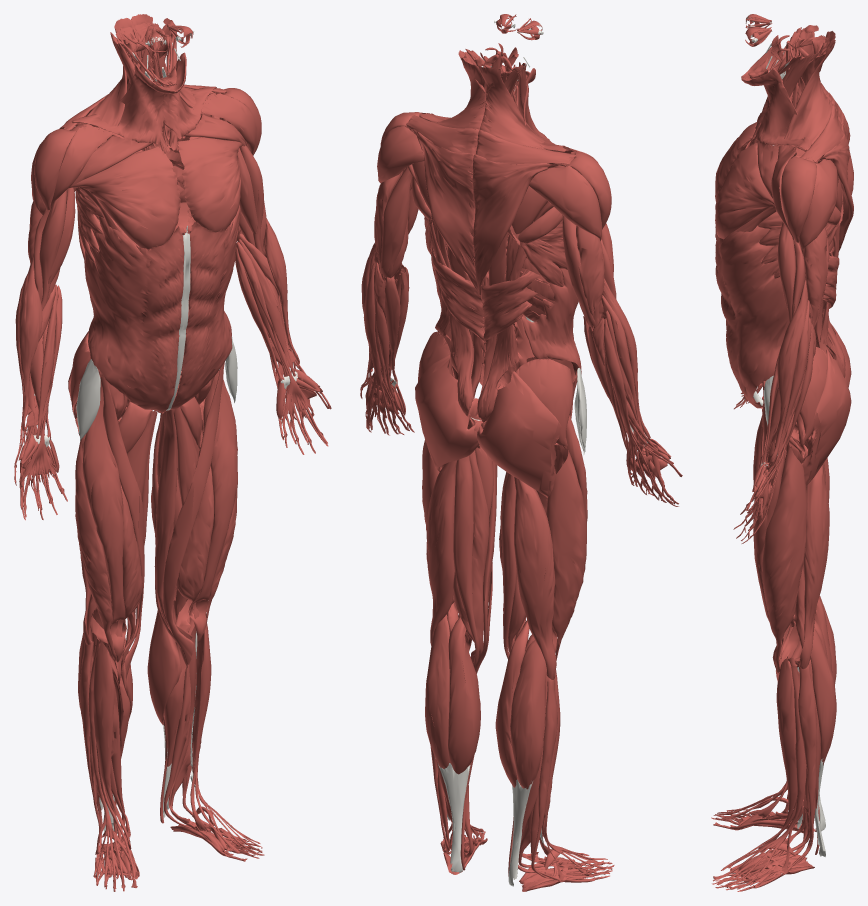
Rendered from body-muscles.glb.
The picture shows the model from 3 angles, left to right: view 1: azimuth 30°, elevation 25°; view 2: azimuth 150°, elevation 25°; view 3: azimuth 270°, elevation 25°; orthographic projection.
Visible parts, largest first — view 1: FJ1452, FJ1452M, FJ1464, FJ1433, FJ1464M, FJ1433M, FJ1434M, FJ1442, FJ1587, FJ1421M, FJ1434, FJ1439 (+42 smaller); view 2: FJ1418, FJ1395, FJ1442, FJ1520M, FJ1520, FJ1418M, FJ1394, FJ1397M, FJ1395M, FJ1452, FJ1436M, FJ1394M (+43 smaller); view 3: FJ1452M, FJ1442M, FJ1395M, FJ1464M, FJ1418M, FJ1439M, FJ1558, FJ1467M, FJ1521M, FJ1394M, FJ1487M, FJ1410M (+35 smaller).
Boxes of the visible parts, x1=… form: FJ1452: x1=84, y1=216, x2=184, y2=412; FJ1452M: x1=170, y1=204, x2=240, y2=409; FJ1464: x1=69, y1=146, x2=180, y2=248; FJ1433: x1=82, y1=381, x2=126, y2=662; FJ1464M: x1=177, y1=137, x2=242, y2=232; FJ1433M: x1=188, y1=370, x2=237, y2=642; FJ1434M: x1=163, y1=362, x2=224, y2=664; FJ1442: x1=75, y1=434, x2=116, y2=660; FJ1587: x1=72, y1=64, x2=176, y2=144; FJ1421M: x1=155, y1=409, x2=192, y2=639; FJ1434: x1=99, y1=373, x2=144, y2=679; FJ1439: x1=93, y1=641, x2=131, y2=849; FJ1418: x1=477, y1=371, x2=561, y2=497; FJ1395: x1=514, y1=476, x2=556, y2=679; FJ1442: x1=546, y1=444, x2=586, y2=660; FJ1520M: x1=415, y1=131, x2=481, y2=298; FJ1520: x1=472, y1=154, x2=558, y2=298; FJ1418M: x1=415, y1=355, x2=479, y2=471; FJ1394: x1=510, y1=640, x2=546, y2=789; FJ1397M: x1=447, y1=617, x2=480, y2=774; FJ1395M: x1=426, y1=460, x2=457, y2=645; FJ1452: x1=521, y1=268, x2=581, y2=374; FJ1436M: x1=453, y1=455, x2=479, y2=667; FJ1394M: x1=425, y1=614, x2=449, y2=768; FJ1452M: x1=715, y1=225, x2=789, y2=408; FJ1442M: x1=762, y1=441, x2=807, y2=671; FJ1395M: x1=799, y1=464, x2=829, y2=668; FJ1464M: x1=715, y1=142, x2=774, y2=239; FJ1418M: x1=802, y1=349, x2=851, y2=486; FJ1439M: x1=758, y1=658, x2=797, y2=852; FJ1558: x1=741, y1=69, x2=811, y2=150; FJ1467M: x1=781, y1=155, x2=816, y2=242; FJ1521M: x1=784, y1=40, x2=835, y2=144; FJ1394M: x1=794, y1=621, x2=836, y2=765; FJ1487M: x1=770, y1=276, x2=807, y2=464; FJ1410M: x1=765, y1=663, x2=816, y2=867.
Size of the model in its own units: 0.6387 by 1.61 by 0.2507.
